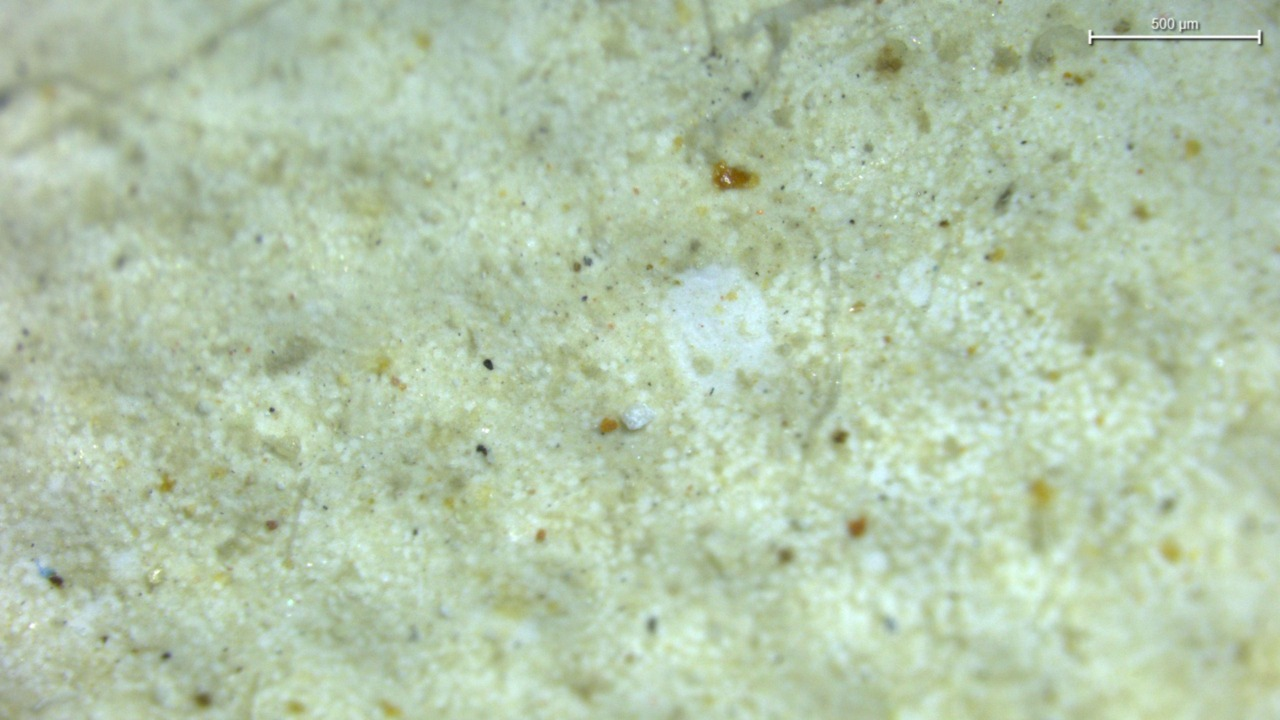microplastic_fragment: (620, 402, 655, 430)
